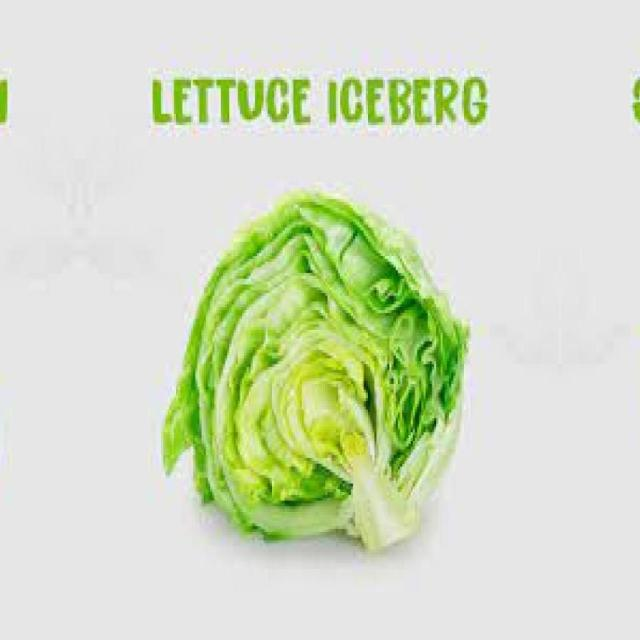healthy: (168, 197, 468, 557)
